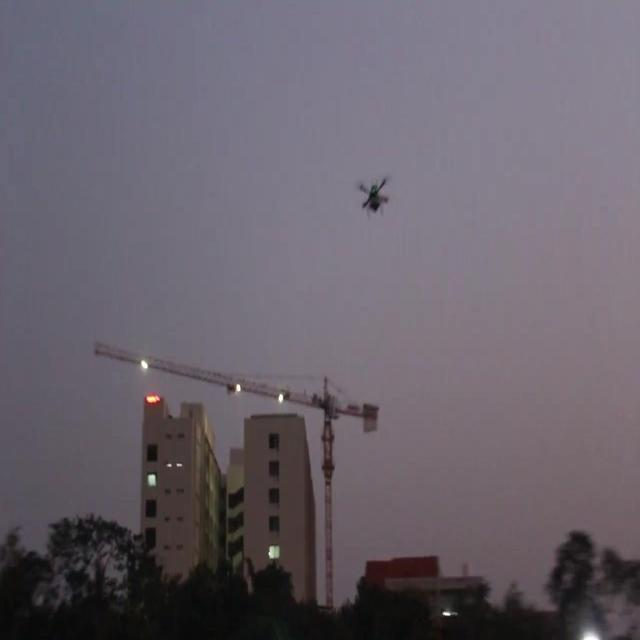drone: (358, 174, 392, 221)
